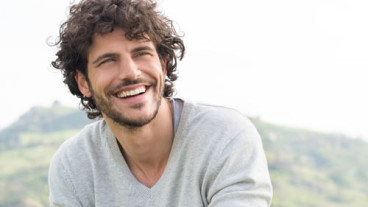without_mask: (79, 29, 168, 124)
